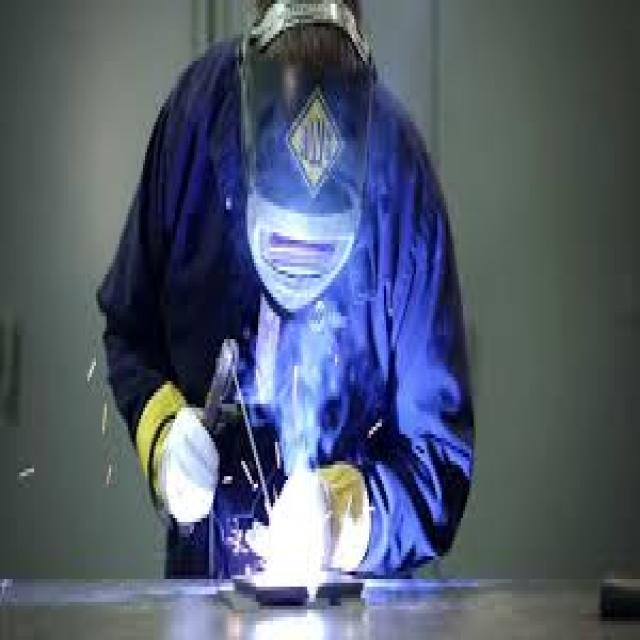welding: (272, 487, 318, 573)
